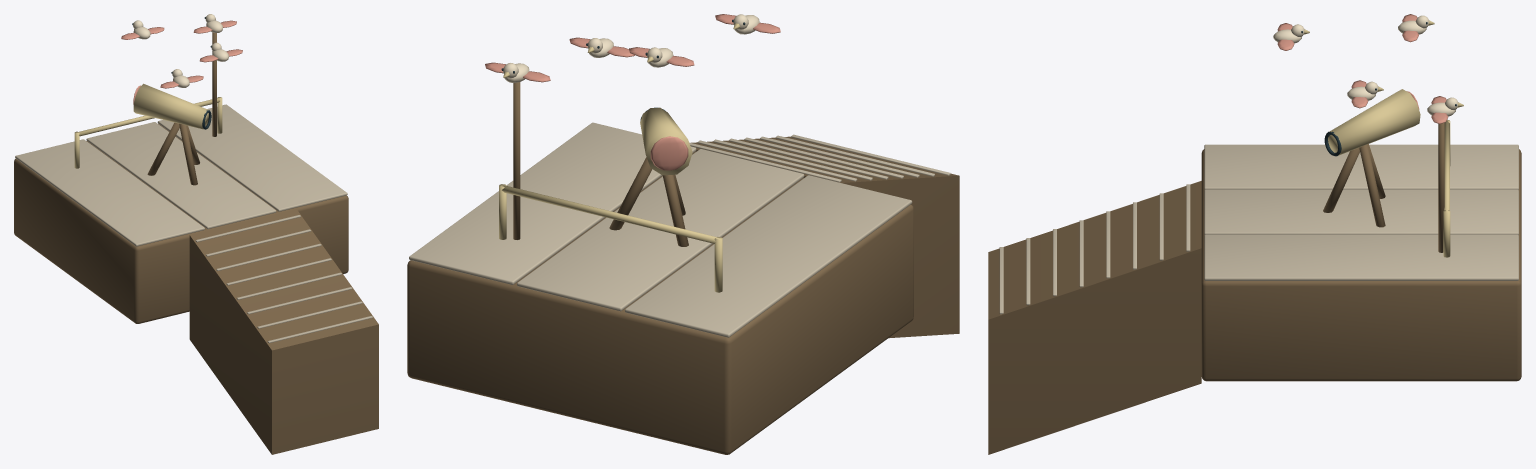
The model's file is discovery_driftwatch.glb.
The picture shows the model from 3 angles, left to right: view 1: azimuth 30°, elevation 25°; view 2: azimuth 150°, elevation 25°; view 3: azimuth 270°, elevation 25°; orthographic projection. The views are drawn at different scales.
Visible parts, largest first — view 1: discovery_driftwatch_part_0, discovery_driftwatch_part_1; view 2: discovery_driftwatch_part_0, discovery_driftwatch_part_1; view 3: discovery_driftwatch_part_0, discovery_driftwatch_part_1.
Part boxes in pixels (x1,y1,x2,y2): discovery_driftwatch_part_0: (14,32,378,454); discovery_driftwatch_part_1: (133,83,211,129); discovery_driftwatch_part_0: (407,82,959,454); discovery_driftwatch_part_1: (640,107,692,175); discovery_driftwatch_part_0: (988,119,1521,454); discovery_driftwatch_part_1: (1324,89,1420,156).
Bounding box in the file's own units: 6 × 8.13 × 10.
